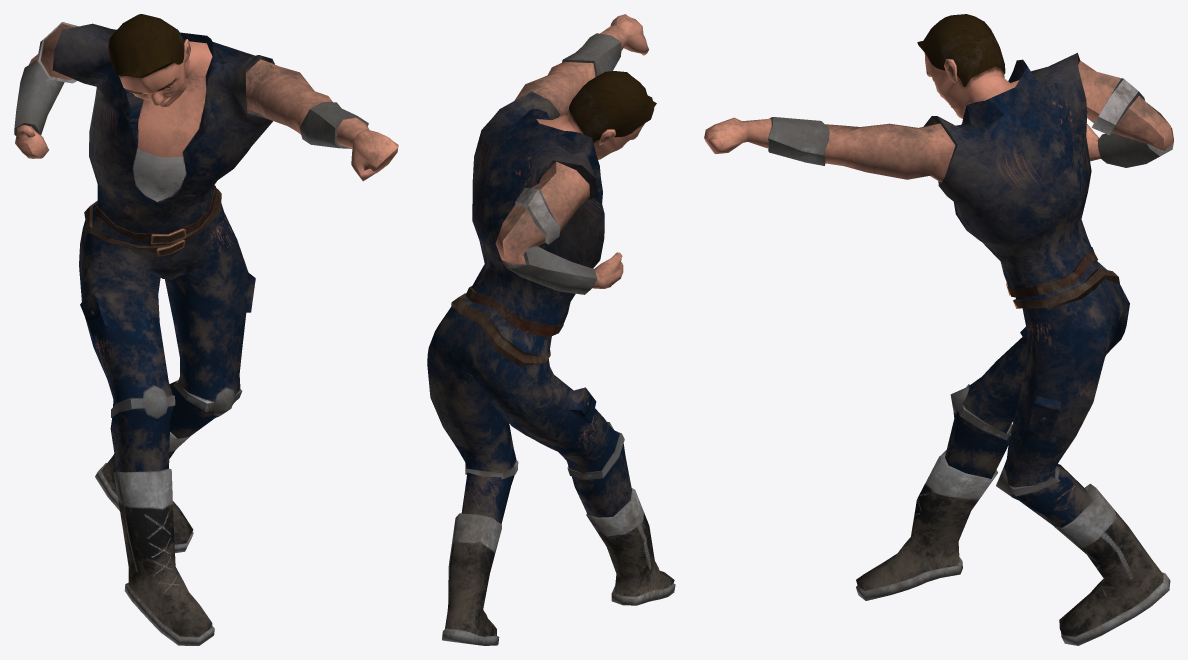
The model's file is Anim_ataque_d2_jugador.0033.obj.
3 views of the same model, side by side, from view 1: azimuth 30°, elevation 25°; view 2: azimuth 150°, elevation 25°; view 3: azimuth 270°, elevation 25° (orthographic). The views are drawn at different scales.
Visible parts, largest first — view 1: polySurface1; view 2: polySurface1; view 3: polySurface1.
Boxes of the visible parts, <box> form: polySurface1: <box>14,14,398,645</box>; polySurface1: <box>427,14,675,645</box>; polySurface1: <box>704,14,1173,645</box>.
Size of the model in its own units: 3.3 by 8.68 by 6.34.
